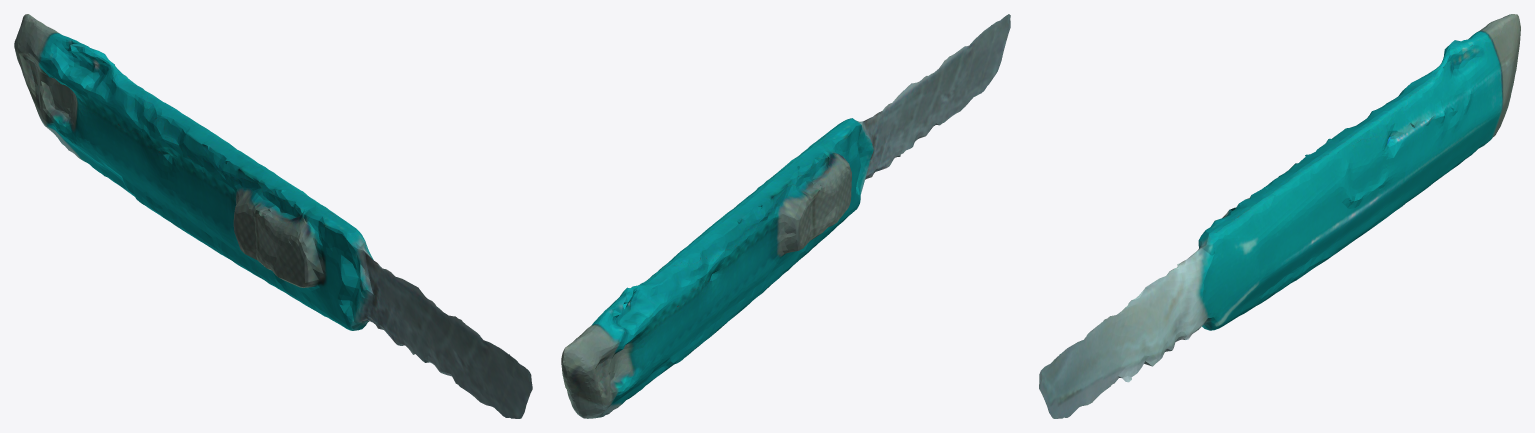
The model's file is scan_align.obj.
3 renders of one model, left to right at view 1: azimuth 30°, elevation 25°; view 2: azimuth 150°, elevation 25°; view 3: azimuth 330°, elevation 25°, orthographic. The views are drawn at different scales.
Parts seen in each view (by area): view 1: all; view 2: all; view 3: all.
Boxes of the visible parts, x1,y1,x2,y2 form: all: (14,14,532,418); all: (561,14,1010,418); all: (1039,14,1520,418).
Size of the model in its own units: 0.0132 by 0.0295 by 0.2243.
Materials: 1 (1 with a texture image).
